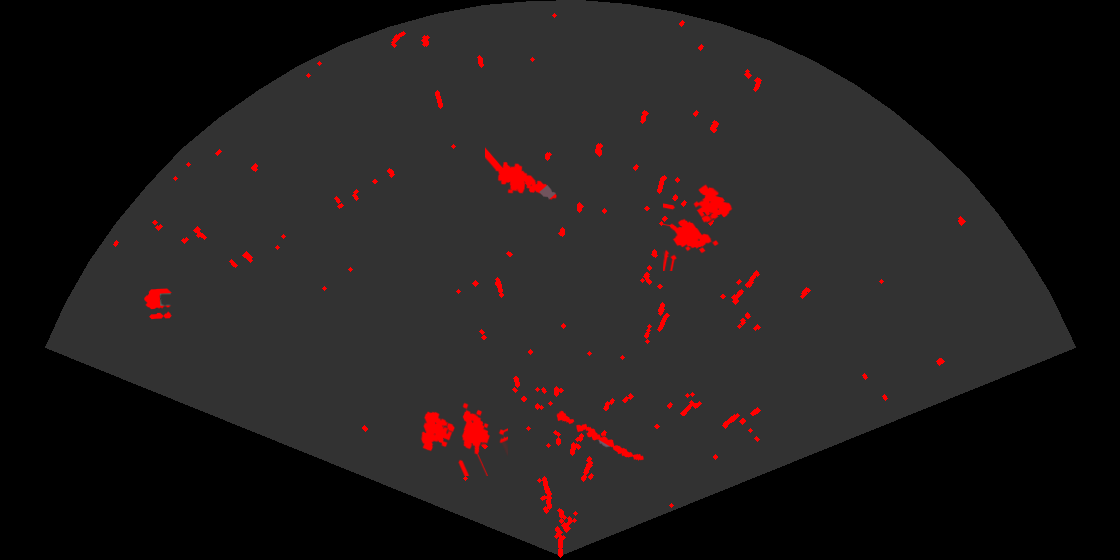ball: (143, 287, 173, 321)
cage: (419, 401, 508, 476), (663, 183, 734, 271)
chain: (555, 409, 645, 462)
frogman: (485, 145, 559, 201)
